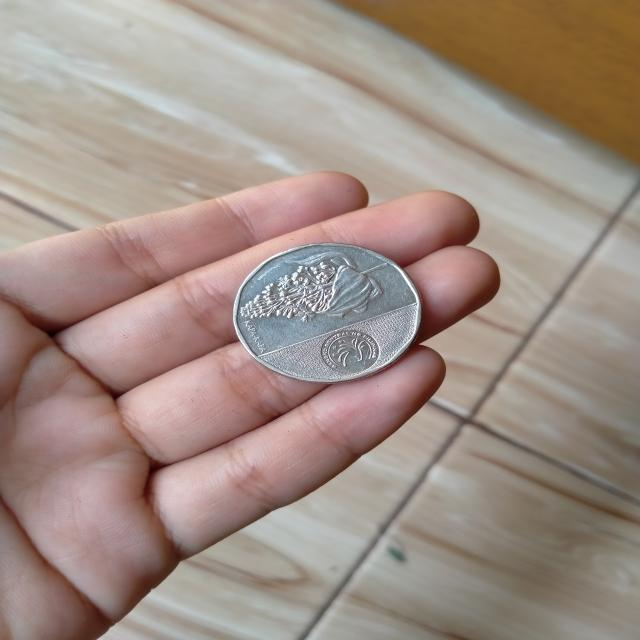10_New_Back: (238, 242, 401, 324)
